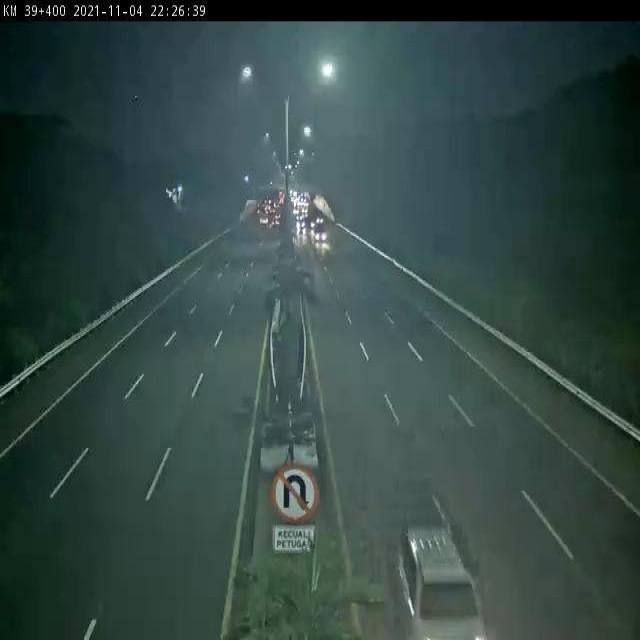car: (385, 517, 490, 640)
